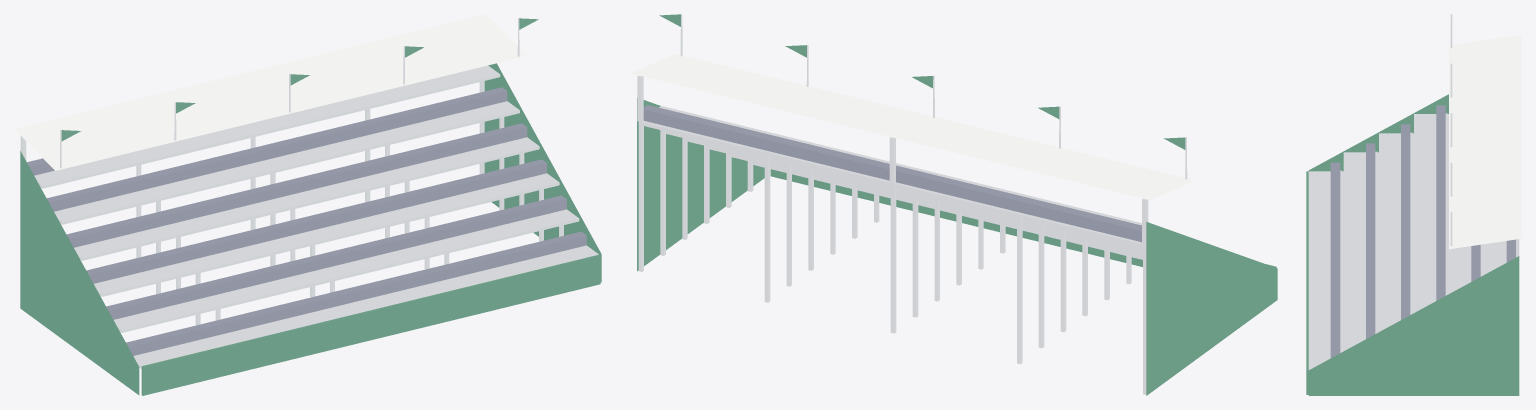
File: Blender_Grandstand_1.glb
3 renders of one model, left to right at view 1: azimuth 30°, elevation 25°; view 2: azimuth 150°, elevation 25°; view 3: azimuth 270°, elevation 25°, orthographic. The views are drawn at different scales.
Parts seen in each view (by area): view 1: Blender_Grandstand_1; view 2: Blender_Grandstand_1; view 3: Blender_Grandstand_1.
Boxes of the visible parts, bbox=[...] form: Blender_Grandstand_1: bbox=[15, 14, 601, 395]; Blender_Grandstand_1: bbox=[630, 14, 1277, 395]; Blender_Grandstand_1: bbox=[1306, 14, 1521, 395].
Bounding box in the file's own units: 21.2 × 8.6 × 9.2.
